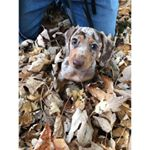puppy: (61, 23, 115, 82)
